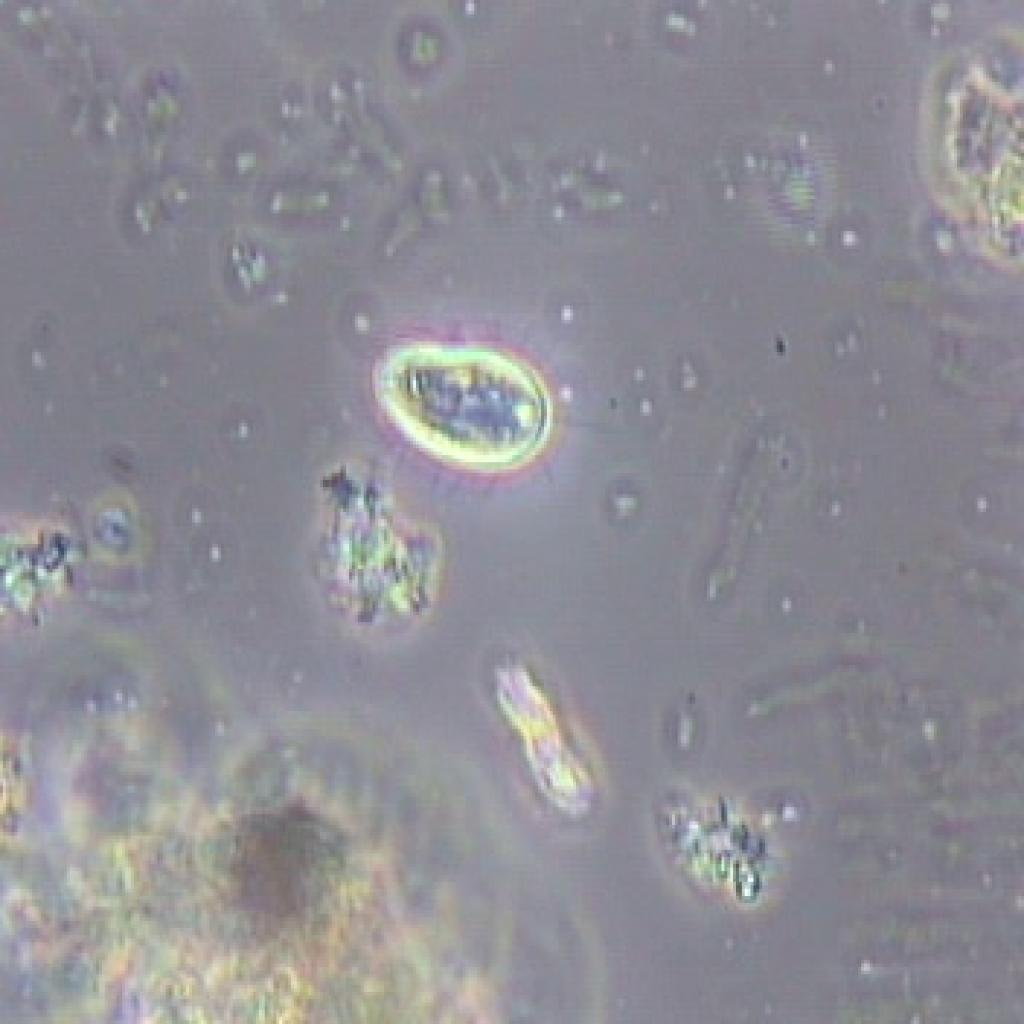Cyclidium: (346, 308, 605, 514)
